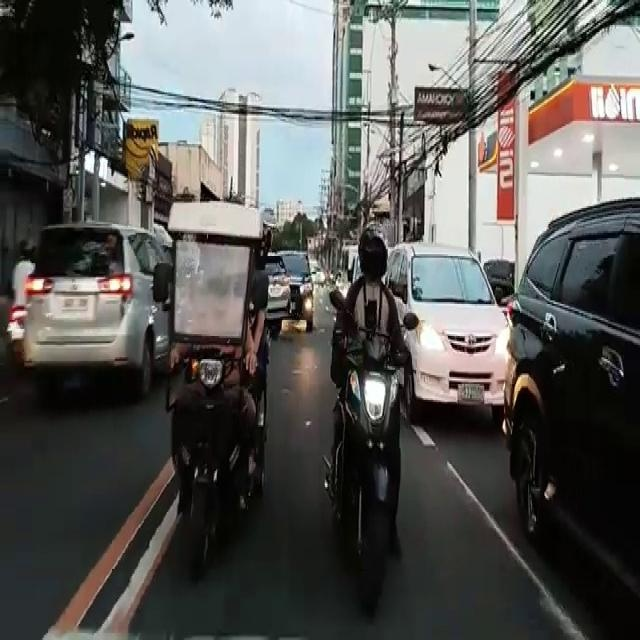car: (508, 217, 640, 529), (30, 230, 168, 400), (397, 244, 503, 418)
motorcycle: (171, 227, 265, 560), (316, 265, 388, 566)
